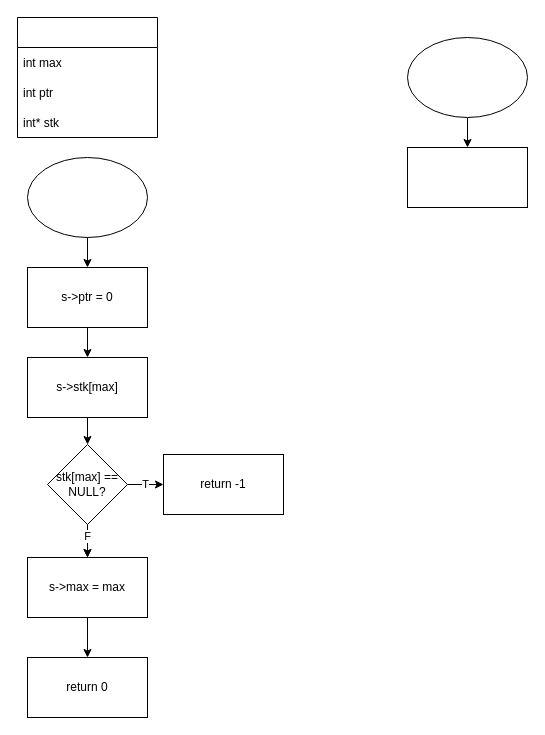
Some shapes in this 545 by 735 pixel diagram are drawn without their labels. The shapes that lost their labels are listed below. From the top down, each one's box as (x1, y1, x2, y2) in pixels, then its label:
(16, 16, 158, 138): IntStack
(406, 36, 528, 118): Push
(26, 156, 148, 238): Initialize(IntStack &s, int max)
